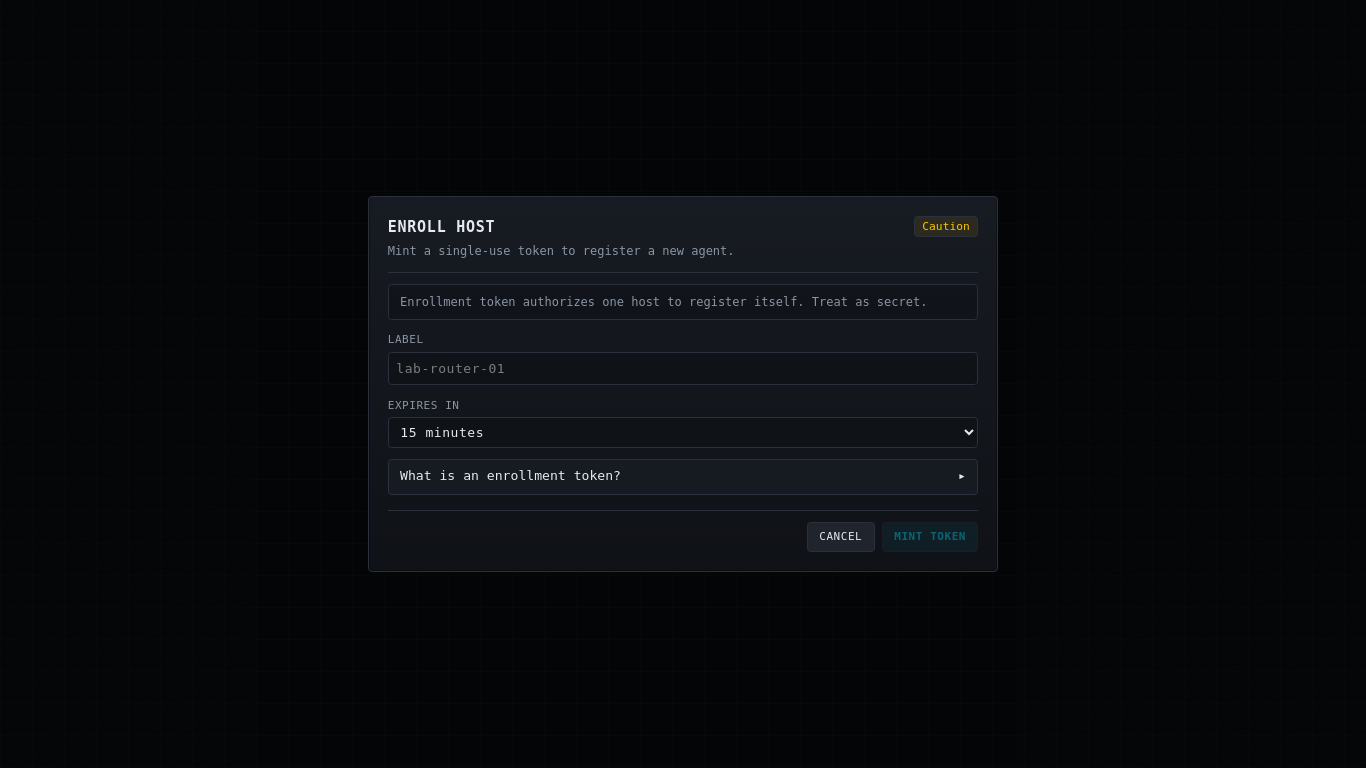
EnrollmentModal step 3 watching › shows enrolled state when token disappears from pending
Type "lab-02" into the field labelled "Label" at (683, 369), box [388, 352, 978, 385]
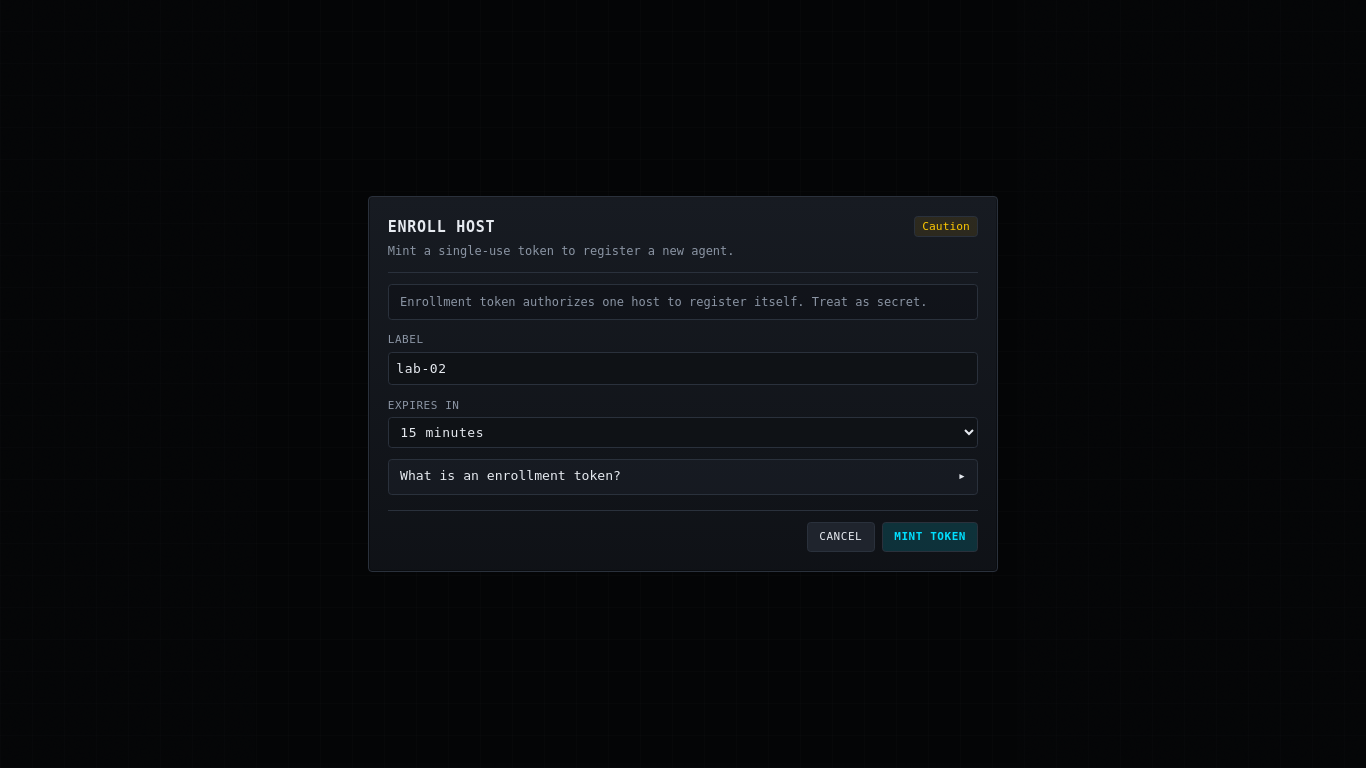
Click the button "Mint Token" at (930, 537), box [882, 522, 978, 552]
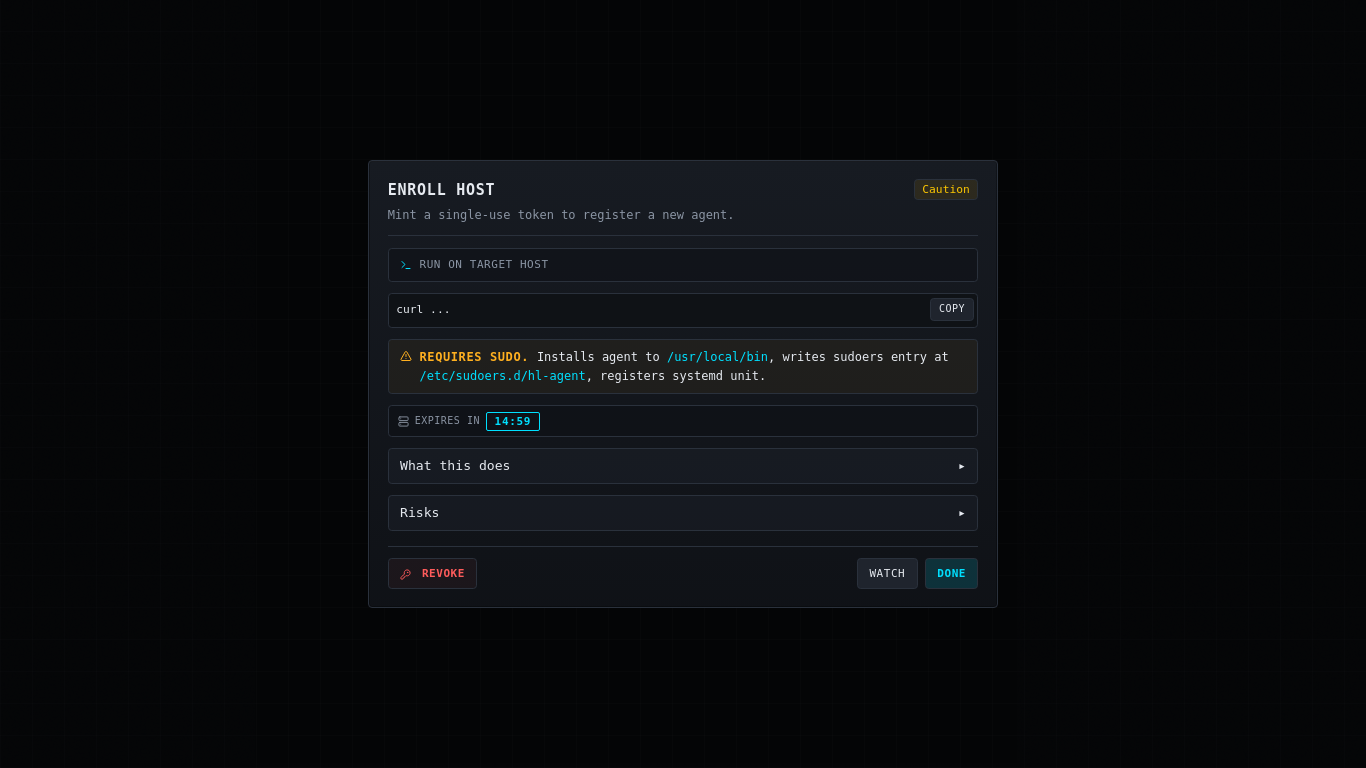
Expected: the button "Watch" is shown
Click the button "Watch" at (887, 574), box [857, 558, 918, 589]
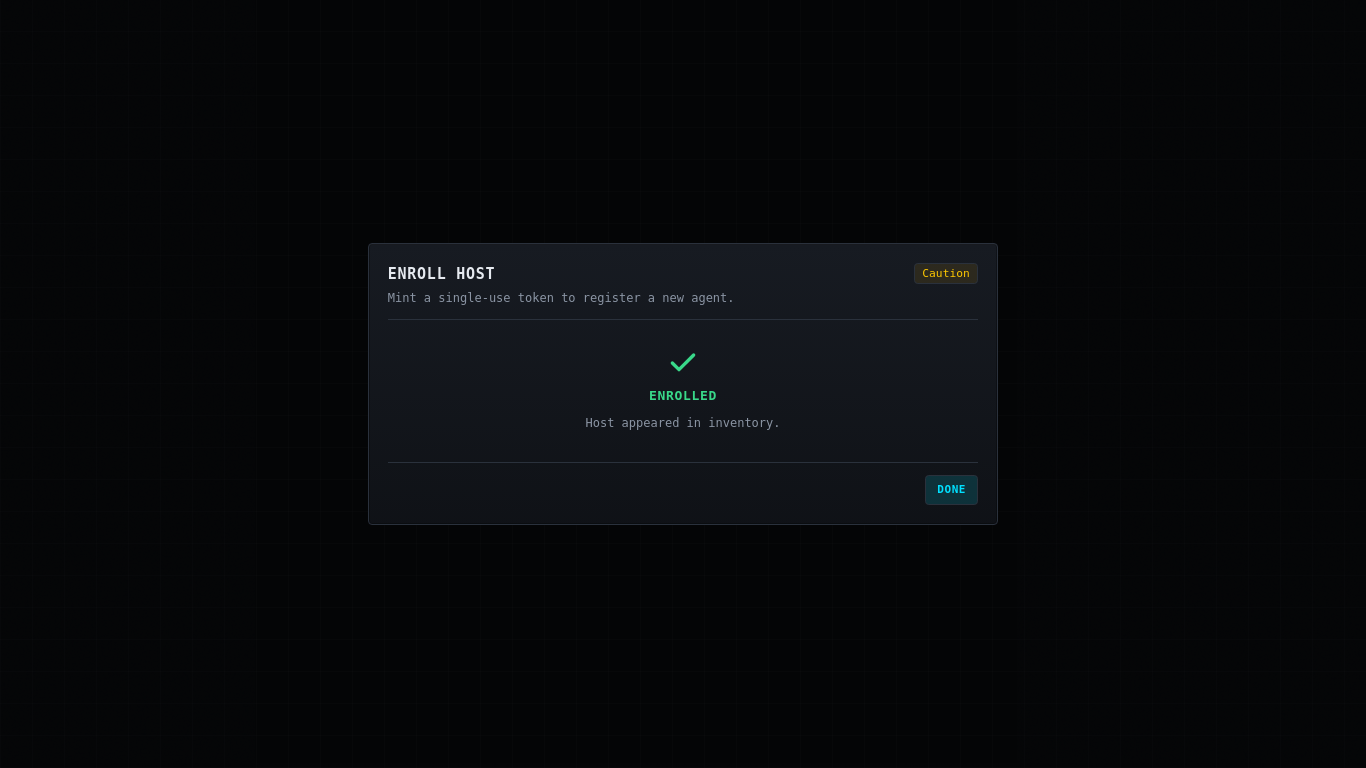
Expected: the text "Enrolled" is shown, [649, 386, 717, 406]
